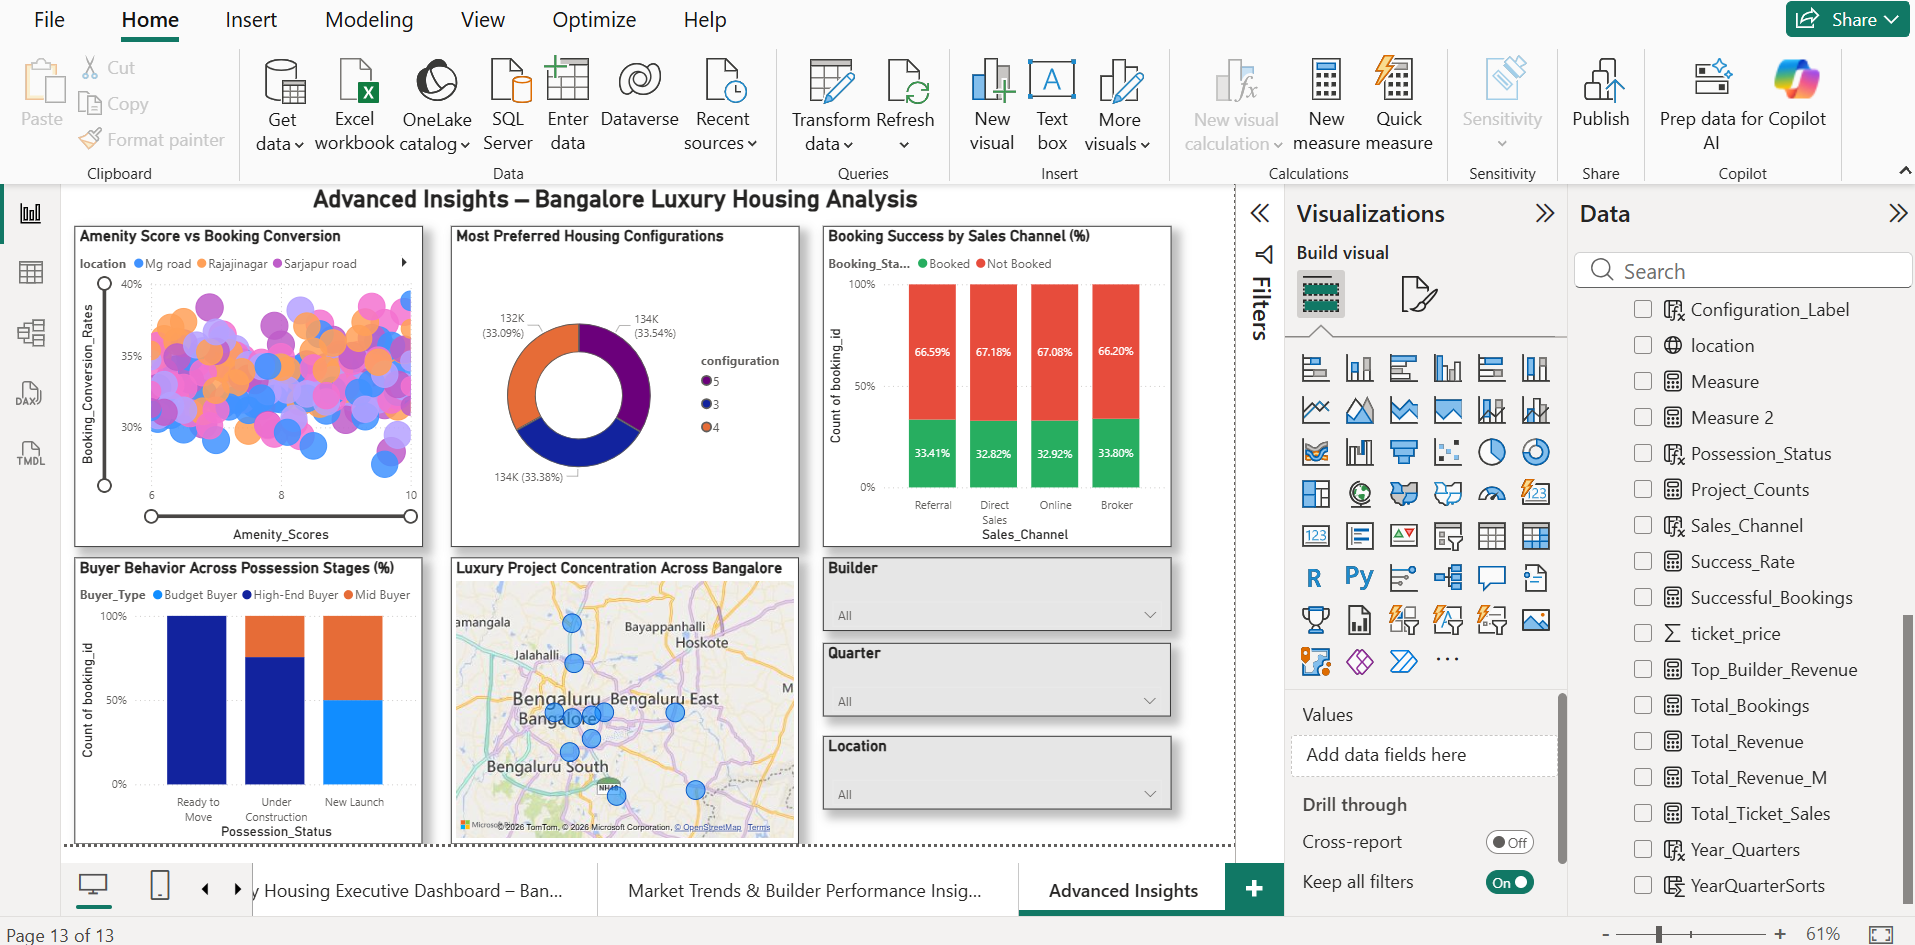

This screenshot's page, from the dashboard's own definition file:
{"tool":"powerbi","page":{"name":"Advanced Insights","canvas":[1280,720],"ordinal":12},"visuals":[{"type":"scatterChart","title":"Amenity Score vs Booking Conversion","fields":{"X":["luxuryhousingsales_db luxury_housing_new.Amenity_Scores"],"Y":["luxuryhousingsales_db luxury_housing_new.Booking_Conversion_Rates"],"Size":["luxuryhousingsales_db luxury_housing_new.Project_Counts"],"Series":["luxuryhousingsales_db luxury_housing_new.location"]},"box":[14.7,45.8,380,350.1],"z":0},{"type":"donutChart","title":"Most Preferred Housing Configurations","fields":{"Category":["luxuryhousingsales_db luxury_housing_new.configuration"],"Y":["luxuryhousingsales_db luxury_housing_new.Booking_Counts"]},"box":[425.4,45.8,380,350.1],"z":1000},{"type":"hundredPercentStackedColumnChart","title":"Booking Success by Sales Channel (%)","fields":{"Category":["luxuryhousingsales_db luxury_housing_new.Sales_Channel"],"Series":["luxuryhousingsales_db luxury_housing_new.Booking_Status_Label"],"Y":["CountNonNull(luxuryhousingsales_db luxury_housing_new.booking_id)"]},"box":[831.2,45.8,380,350.1],"z":2000},{"type":"hundredPercentStackedColumnChart","title":"Buyer Behavior Across Possession Stages (%)","fields":{"Category":["luxuryhousingsales_db luxury_housing_new.Possession_Status"],"Y":["CountNonNull(luxuryhousingsales_db luxury_housing_new.booking_id)"],"Series":["luxuryhousingsales_db luxury_housing_new.Buyer_Type"]},"box":[14.7,407.4,379.6,312.5],"z":3000},{"type":"map","title":"Luxury Project Concentration Across Bangalore","fields":{"Category":["luxuryhousingsales_db luxury_housing_new.location"],"Size":["luxuryhousingsales_db luxury_housing_new.Project_Counts"]},"box":[425.4,407.4,379.6,312.5],"z":4000},{"type":"textbox","title":"Advanced Insights – Bangalore Luxury Housing Analysis","box":[270,0,739.5,34.4],"z":4001},{"type":"slicer","title":"Builder","fields":{"Values":["luxuryhousingsales_db luxury_housing_new.builder_name"]},"box":[831.2,407.4,380,80],"z":4002},{"type":"slicer","title":"Quarter","fields":{"Values":["luxuryhousingsales_db luxury_housing_new.Year_Quarters"]},"box":[831.2,500.7,379.6,80],"z":4003},{"type":"slicer","title":"Location","fields":{"Values":["luxuryhousingsales_db luxury_housing_new.location"]},"box":[831.2,602.1,380,80],"z":4004}]}

Visuals, with their boxes on the page's 1280x720 design canvas (x1, y1, x2, y2). These are canvas units, not pixel positions in the 1915x945 screenshot, which may show the page scaled, cropped or inside an application window:
"Amenity Score vs Booking Conversion" scatterChart: (x1=15, y1=46, x2=395, y2=396)
"Most Preferred Housing Configurations" donutChart: (x1=425, y1=46, x2=805, y2=396)
"Booking Success by Sales Channel (%)" hundredPercentStackedColumnChart: (x1=831, y1=46, x2=1211, y2=396)
"Buyer Behavior Across Possession Stages (%)" hundredPercentStackedColumnChart: (x1=15, y1=407, x2=394, y2=720)
"Luxury Project Concentration Across Bangalore" map: (x1=425, y1=407, x2=805, y2=720)
"Advanced Insights – Bangalore Luxury Housing Analysis" textbox: (x1=270, y1=0, x2=1010, y2=34)
"Builder" slicer: (x1=831, y1=407, x2=1211, y2=487)
"Quarter" slicer: (x1=831, y1=501, x2=1211, y2=581)
"Location" slicer: (x1=831, y1=602, x2=1211, y2=682)
